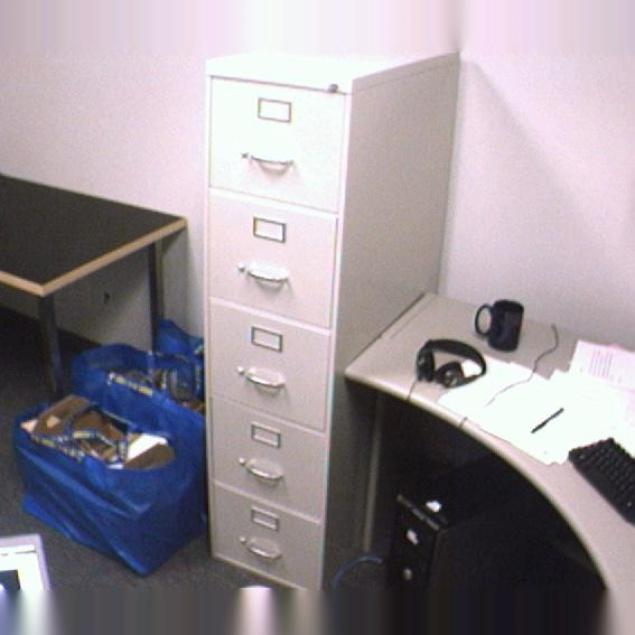Filing Cabinet: (203, 51, 458, 586)
